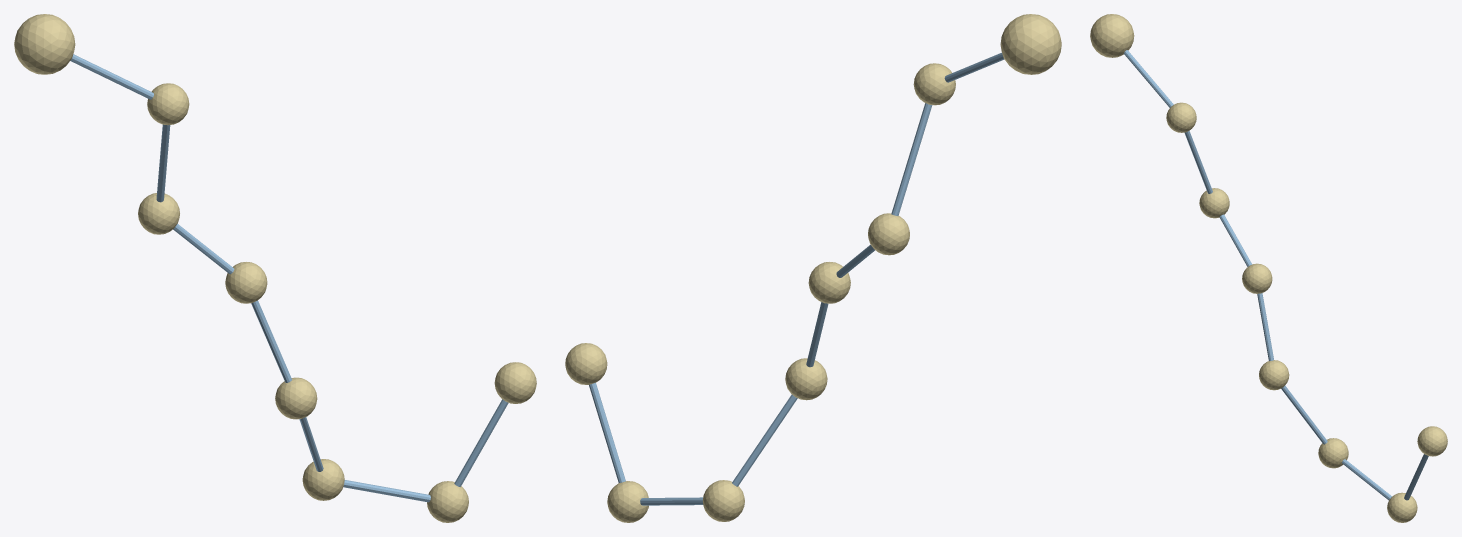
The model's file is escorpiao.glb.
The picture shows the model from 3 angles, left to right: view 1: azimuth 30°, elevation 25°; view 2: azimuth 150°, elevation 25°; view 3: azimuth 330°, elevation 25°; orthographic projection. The views are drawn at different scales.
Parts seen in each view (by area): view 1: world; view 2: world; view 3: world.
Part boxes in pixels (x1,y1,x2,y2): world: (14,14,536,522); world: (565,14,1061,522); world: (1090,14,1447,522).
Size of the model in its own units: 2.75 by 3.14 by 0.4614.
